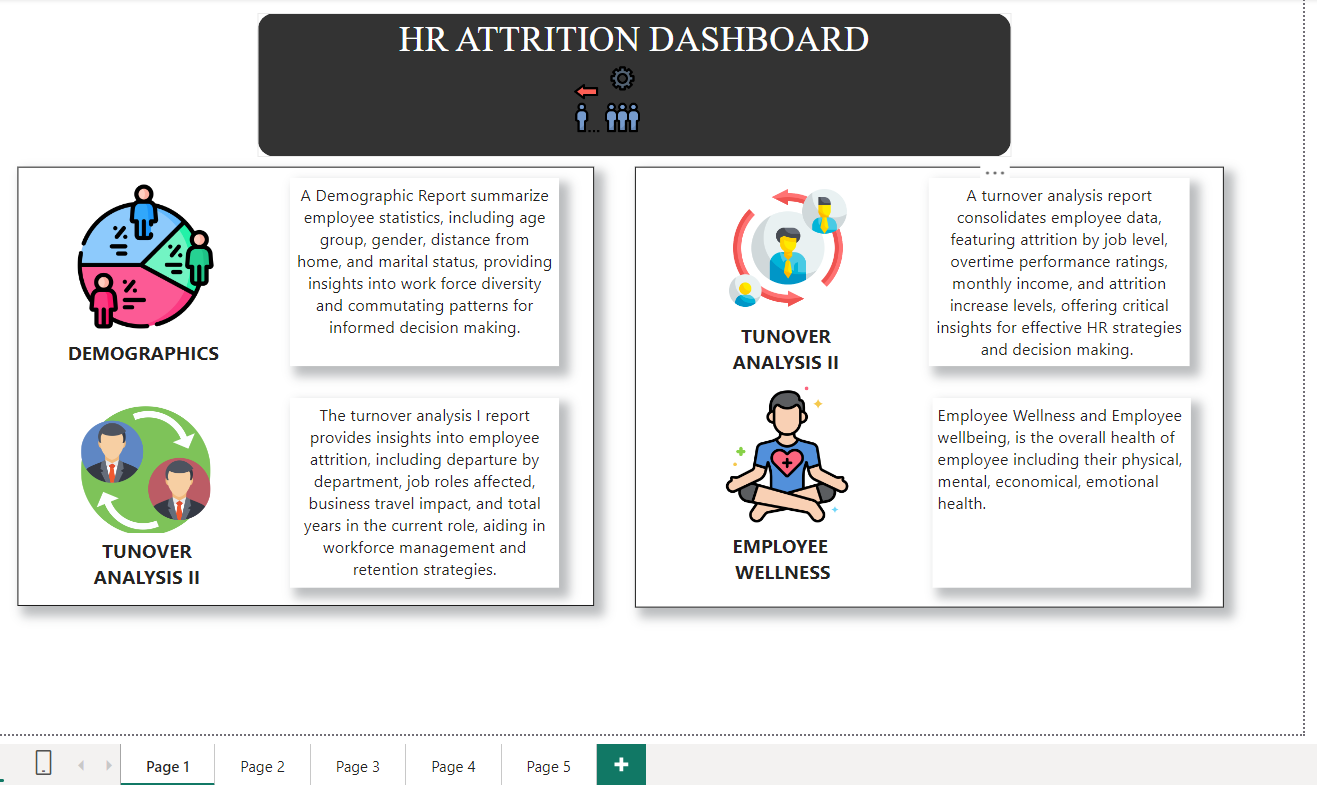

The page's visual inventory and layout, read from the dashboard file:
{"tool":"powerbi","page":{"name":"Page 1","canvas":[1280,720],"ordinal":0},"visuals":[{"type":"textbox","box":[625.7,164.7,576.3,430.9],"z":0},{"type":"textbox","box":[22,164.7,564,429.5],"z":1000},{"type":"textbox","title":"A Demographic Repot ","box":[288.2,175.6,263.5,183.9],"z":2000},{"type":"textbox","box":[288.2,391.1,263.5,185.2],"z":3000},{"type":"image","box":[72.7,175.6,150.9,153.7],"z":4000},{"type":"image","box":[79.6,391.1,135.8,142.7],"z":5000},{"type":"textbox","box":[913.9,175.6,255.2,183.9],"z":6000},{"type":"textbox","box":[916.6,391.1,252.5,185.2],"z":7000},{"type":"image","box":[691.6,175.6,167.4,137.2],"z":8000},{"type":"image","box":[693,376,163.3,142.7],"z":9000},{"type":"textbox","box":[683.4,518.7,174.3,67.2],"z":10000},{"type":"textbox","box":[703.9,312.9,138.6,63.1],"z":11000},{"type":"textbox","box":[65.9,329.3,163.3,53.5],"z":12000},{"type":"textbox","box":[75.5,522.8,145.5,63.1],"z":13000},{"type":"shape","box":[256.8,14.7,737.4,140.6],"z":14000},{"type":"image","box":[535,60,126.2,78.8],"z":15000}]}

Visuals, with their boxes on the page's 1280x720 design canvas (x1, y1, x2, y2). These are canvas units, not pixel positions in the 1317x785 screenshot, which may show the page scaled, cropped or inside an application window:
textbox: {"left": 626, "top": 165, "right": 1202, "bottom": 596}
textbox: {"left": 22, "top": 165, "right": 586, "bottom": 594}
"A Demographic Repot " textbox: {"left": 288, "top": 176, "right": 552, "bottom": 360}
textbox: {"left": 288, "top": 391, "right": 552, "bottom": 576}
image: {"left": 73, "top": 176, "right": 224, "bottom": 329}
image: {"left": 80, "top": 391, "right": 215, "bottom": 534}
textbox: {"left": 914, "top": 176, "right": 1169, "bottom": 360}
textbox: {"left": 917, "top": 391, "right": 1169, "bottom": 576}
image: {"left": 692, "top": 176, "right": 859, "bottom": 313}
image: {"left": 693, "top": 376, "right": 856, "bottom": 519}
textbox: {"left": 683, "top": 519, "right": 858, "bottom": 586}
textbox: {"left": 704, "top": 313, "right": 842, "bottom": 376}
textbox: {"left": 66, "top": 329, "right": 229, "bottom": 383}
textbox: {"left": 76, "top": 523, "right": 221, "bottom": 586}
shape: {"left": 257, "top": 15, "right": 994, "bottom": 155}
image: {"left": 535, "top": 60, "right": 661, "bottom": 139}
